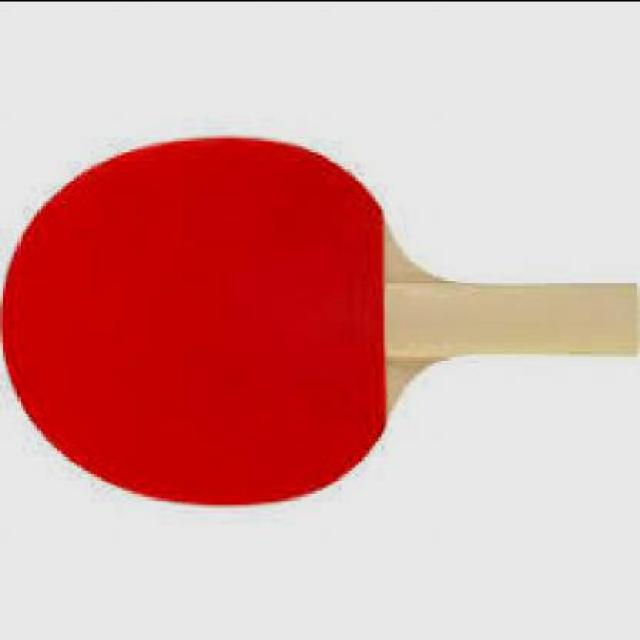table_tennis_racket: (0, 127, 418, 507)
